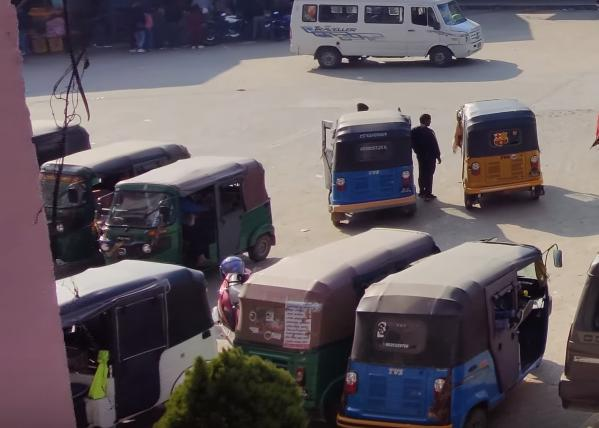auto_rickshaw: (91, 153, 281, 271), (315, 108, 422, 224), (455, 97, 548, 213)
